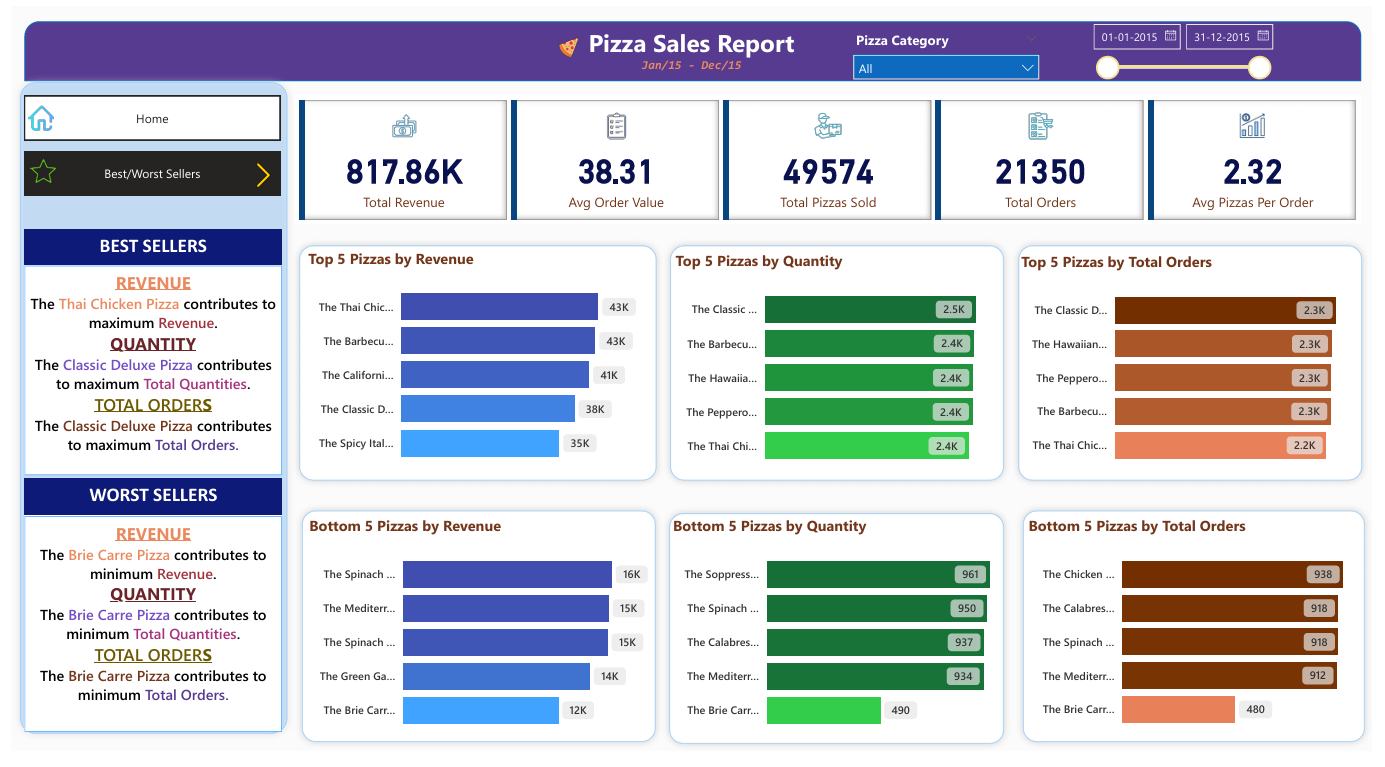

Layout of this report page (visuals, bound fields, positions):
{"tool":"powerbi","page":{"name":"Best/Worst Sellers","canvas":[1500,820],"ordinal":1},"visuals":[{"type":"cardVisual","fields":{"Data":["pizza_sales.Total Revenue","pizza_sales.Avg Order Value","pizza_sales.Total Pizzas Sold","pizza_sales.Total Orders","pizza_sales.Avg Pizzas Order"]},"box":[312,98.1,1176,141.7],"z":0},{"type":"shape","box":[13.6,16.4,1474.4,65.4],"z":1000},{"type":"shape","box":[1.4,75.1,310.3,733.9],"z":2000},{"type":"textbox","box":[624.1,16.4,250.7,57.2],"z":3000},{"type":"textbox","box":[686.8,49.1,125.4,32.7],"z":4000},{"type":"image","box":[584.6,28.6,57.2,32.7],"z":5000},{"type":"shape","box":[309.3,254.8,410,275],"z":6000},{"type":"textbox","box":[14.2,245.1,283.3,41.1],"z":7000},{"type":"textbox","box":[14.2,284.8,283.3,230.9],"z":8000},{"type":"textbox","box":[14.2,519.9,283.3,41.1],"z":9000},{"type":"textbox","box":[14.2,561,283.3,238],"z":10000},{"type":"slicer","fields":{"Values":["pizza_sales.pizza_category"]},"box":[918,21.3,225.3,60.9],"z":11000},{"type":"slicer","fields":{"Values":["pizza_sales.order_date"]},"box":[1180.1,8.5,216.8,73.7],"z":12000},{"type":"shape","box":[718.3,255,383.9,274.8],"z":13000},{"type":"shape","box":[1102.2,255,395.3,274.8],"z":14000},{"type":"shape","box":[311.7,546.7,406.6,271.1],"z":15000},{"type":"shape","box":[716.9,549.7,385.4,270.6],"z":16000},{"type":"shape","box":[1106.9,546.7,393.1,271.1],"z":17000},{"type":"barChart","title":"Top 5 Pizzas by Revenue","fields":{"Category":["pizza_sales.pizza_name"],"Y":["pizza_sales.Total Revenue"]},"box":[321.6,266.3,381.1,249.3],"z":18000},{"type":"barChart","title":"Bottom 5 Pizzas by Revenue","fields":{"Category":["pizza_sales.pizza_name"],"Y":["pizza_sales.Total Revenue"]},"box":[323,561,383.9,249.3],"z":19000},{"type":"barChart","title":"Top 5 Pizzas by Quantity","fields":{"Category":["pizza_sales.pizza_name"],"Y":["pizza_sales.Total Pizzas Sold"]},"box":[726.8,269.2,365.5,249.3],"z":20000},{"type":"barChart","title":"Bottom 5 Pizzas by Quantity","fields":{"Category":["pizza_sales.pizza_name"],"Y":["pizza_sales.Total Pizzas Sold"]},"box":[724,561,383.9,249.3],"z":21000},{"type":"barChart","title":"Top 5 Pizzas by Total Orders","fields":{"Category":["pizza_sales.pizza_name"],"Y":["pizza_sales.Total Orders"]},"box":[1107.7,269.9,382.8,247.9],"z":22000},{"type":"barChart","title":"Bottom 5 Pizzas by Total Orders","fields":{"Category":["pizza_sales.pizza_name"],"Y":["pizza_sales.Total Orders"]},"box":[1116.4,561,383.9,247.9],"z":23000},{"type":"pageNavigator","box":[14.2,158.7,281.9,49.6],"z":24000},{"type":"pageNavigator","box":[14.2,97.8,281.9,49.6],"z":25000},{"type":"image","box":[259.3,161.5,36.8,46.8],"z":26000},{"type":"image","box":[14.2,99.2,38.3,46.8],"z":26001},{"type":"image","box":[15.6,161.5,38.3,38.3],"z":26002}]}

Visuals, with their boxes in screenshot pixels (x1, y1, x2, y2), scaled from the page's 1500x820 canvas onto the 1385x767 screenshot:
cardVisual - pizza_sales.Total Revenue x pizza_sales.Avg Order Value: <bbox>288, 92, 1374, 224</bbox>
shape: <bbox>13, 15, 1374, 77</bbox>
shape: <bbox>1, 70, 288, 757</bbox>
textbox: <bbox>576, 15, 808, 69</bbox>
textbox: <bbox>634, 46, 750, 77</bbox>
image: <bbox>540, 27, 593, 57</bbox>
shape: <bbox>286, 238, 664, 496</bbox>
textbox: <bbox>13, 229, 275, 268</bbox>
textbox: <bbox>13, 266, 275, 482</bbox>
textbox: <bbox>13, 486, 275, 525</bbox>
textbox: <bbox>13, 525, 275, 747</bbox>
slicer - pizza_sales.pizza_category: <bbox>848, 20, 1056, 77</bbox>
slicer - pizza_sales.order_date: <bbox>1090, 8, 1290, 77</bbox>
shape: <bbox>663, 239, 1018, 496</bbox>
shape: <bbox>1018, 239, 1383, 496</bbox>
shape: <bbox>288, 511, 663, 765</bbox>
shape: <bbox>662, 514, 1018, 766</bbox>
shape: <bbox>1022, 511, 1384, 765</bbox>
"Top 5 Pizzas by Revenue" barChart: <bbox>297, 249, 649, 482</bbox>
"Bottom 5 Pizzas by Revenue" barChart: <bbox>298, 525, 653, 758</bbox>
"Top 5 Pizzas by Quantity" barChart: <bbox>671, 252, 1009, 485</bbox>
"Bottom 5 Pizzas by Quantity" barChart: <bbox>668, 525, 1023, 758</bbox>
"Top 5 Pizzas by Total Orders" barChart: <bbox>1023, 252, 1376, 484</bbox>
"Bottom 5 Pizzas by Total Orders" barChart: <bbox>1031, 525, 1384, 757</bbox>
pageNavigator: <bbox>13, 148, 273, 195</bbox>
pageNavigator: <bbox>13, 91, 273, 138</bbox>
image: <bbox>239, 151, 273, 195</bbox>
image: <bbox>13, 93, 48, 137</bbox>
image: <bbox>14, 151, 50, 187</bbox>
